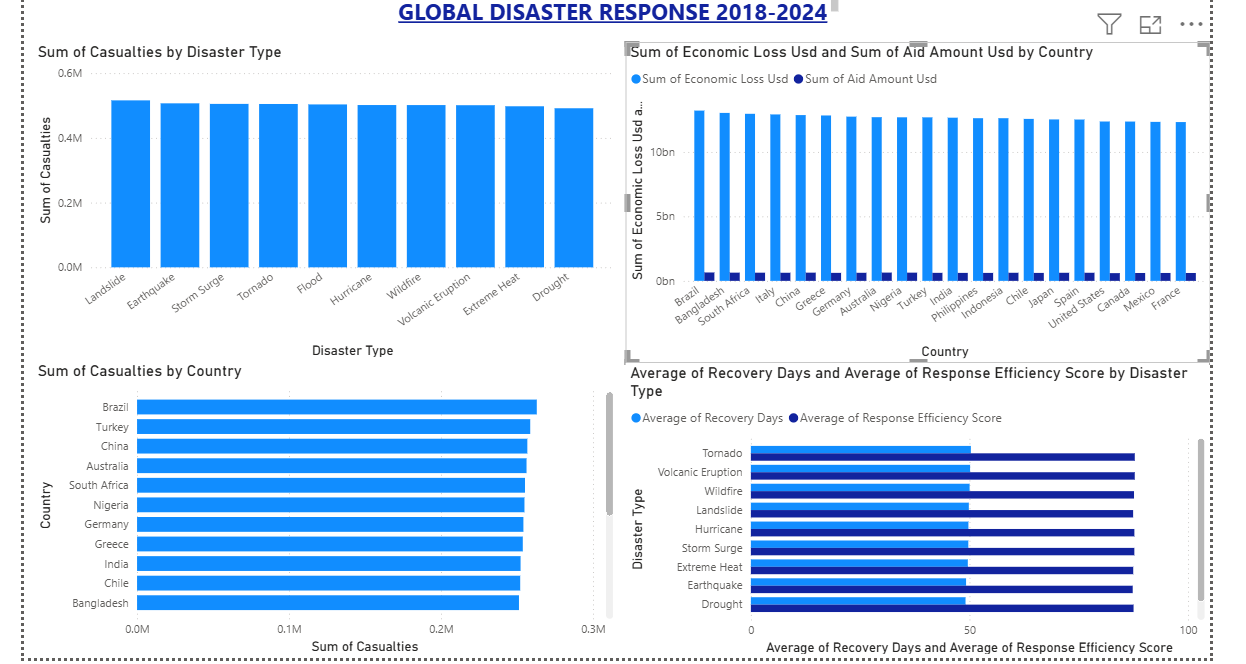

This screenshot's page, from the dashboard's own definition file:
{"tool":"powerbi","page":{"name":"Page 1","canvas":[1280,720],"ordinal":0},"visuals":[{"type":"clusteredColumnChart","fields":{"Y":["Sum(Global Disaster Datasets.Casualties)"],"Category":["Global Disaster Datasets.Disaster Type"]},"box":[9.4,0,631.2,400.6],"z":0},{"type":"clusteredBarChart","fields":{"Category":["Global Disaster Datasets.Country"],"Y":["Sum(Global Disaster Datasets.Casualties)"]},"box":[9.4,400.6,631.2,319.4],"z":1},{"type":"clusteredColumnChart","fields":{"Y":["Sum(Global Disaster Datasets.Economic Loss Usd)","Sum(Global Disaster Datasets.Aid Amount Usd)"],"Category":["Global Disaster Datasets.Country"]},"box":[650,0,630,401],"z":2},{"type":"clusteredBarChart","fields":{"Y":["Avg(Global Disaster Datasets.Recovery Days)","Avg(Global Disaster Datasets.Response Efficiency Score)"],"Category":["Global Disaster Datasets.Disaster Type"]},"box":[650,401,630,319],"z":3}]}

Visuals, with their boxes on the page's 1280x720 design canvas (x1, y1, x2, y2). These are canvas units, not pixel positions in the 1246x664 screenshot, which may show the page scaled, cropped or inside an application window:
clusteredColumnChart - Sum(Global Disaster Datasets.Casualties) x Global Disaster Datasets.Disaster Type: region(9, 0, 641, 401)
clusteredBarChart - Global Disaster Datasets.Country x Sum(Global Disaster Datasets.Casualties): region(9, 401, 641, 720)
clusteredColumnChart - Sum(Global Disaster Datasets.Economic Loss Usd) x Sum(Global Disaster Datasets.Aid Amount Usd): region(650, 0, 1280, 401)
clusteredBarChart - Avg(Global Disaster Datasets.Recovery Days) x Avg(Global Disaster Datasets.Response Efficiency Score): region(650, 401, 1280, 720)
